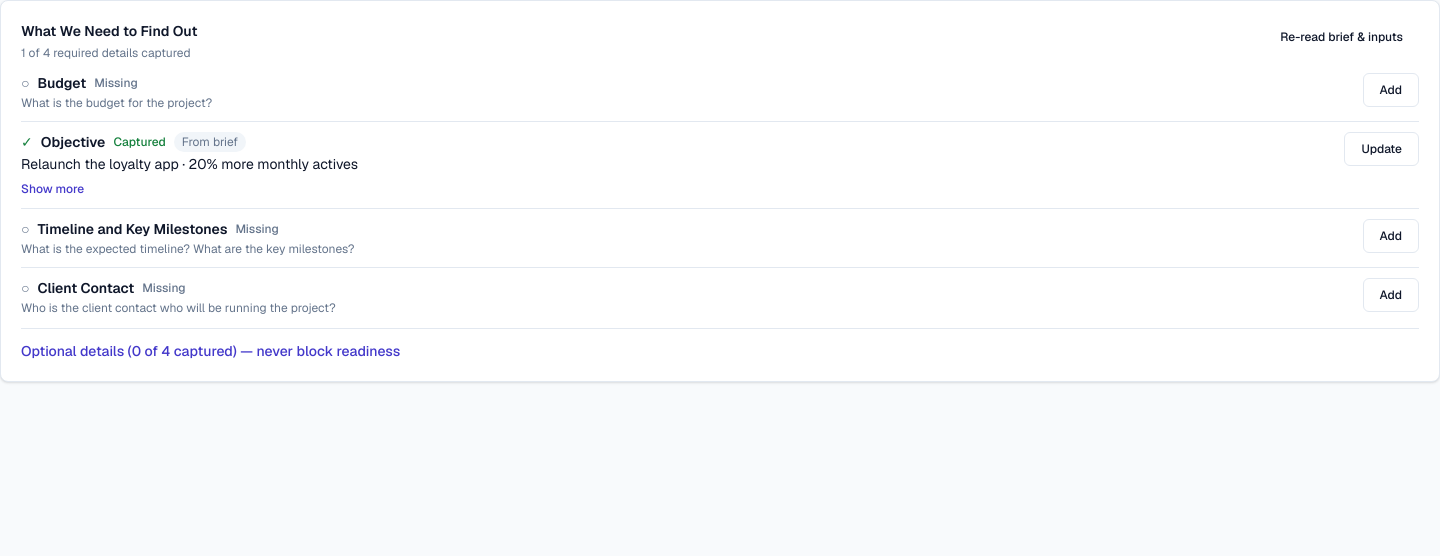
Test: BriefChecklist — What We Need to Find Out › is summary first: one line per detail, with the full value and source quote under 'Show more'
Expected: the text "Relaunch the loyalty app · 20% more monthly actives" is shown, [21,155,358,173]
Expected: the text "we want to relaunch the app" is not shown
Click the heading "Show more": click(53, 189) [21,181,84,197]
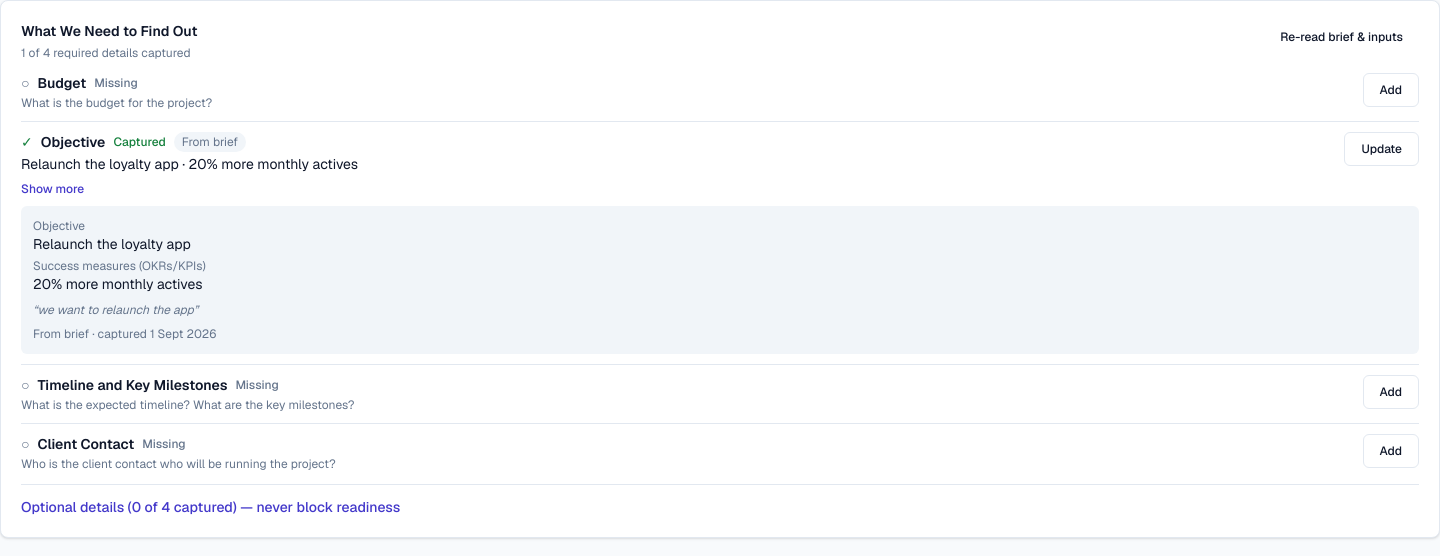
Expected: the text "“we want to relaunch the app”" is shown, [33,302,198,318]
